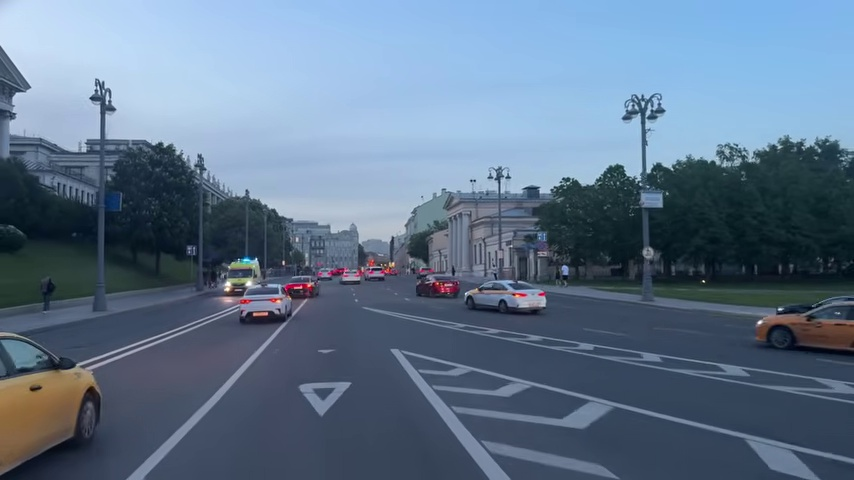apagada: (620, 95, 666, 129), (85, 82, 117, 118), (619, 107, 649, 127)
